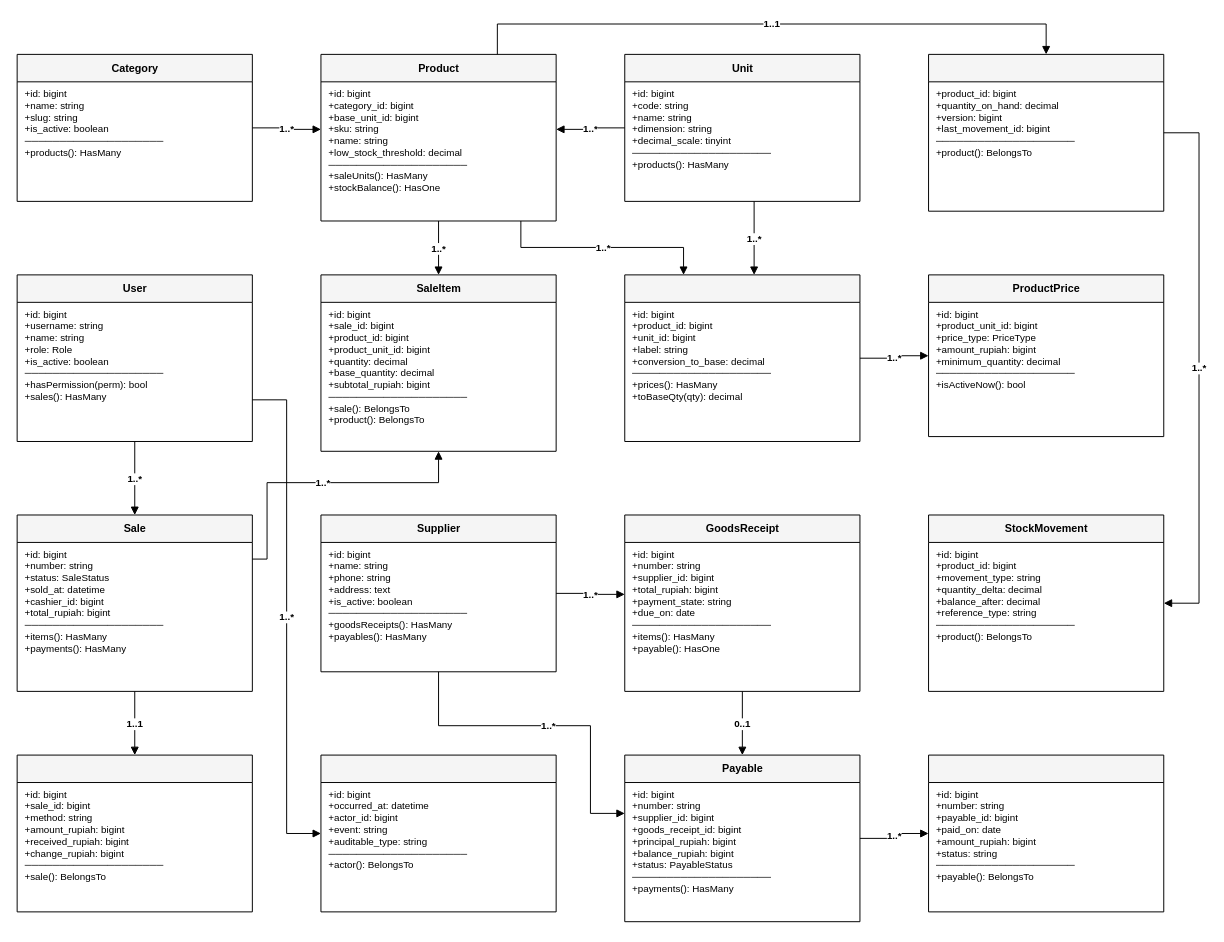
This 1224x942 diagram has some shape labels left out. The box of each missing label's shape, as (x1, y1, x2, y2) in pixels:
AuditLog: (320, 754, 556, 912)
PayablePayment: (928, 754, 1164, 912)
ProductUnit: (624, 274, 860, 441)
SalePayment: (16, 754, 252, 912)
StockBalance: (928, 53, 1164, 211)
